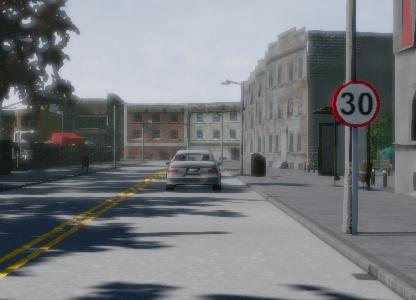Speed_30: (371, 64, 416, 125)
